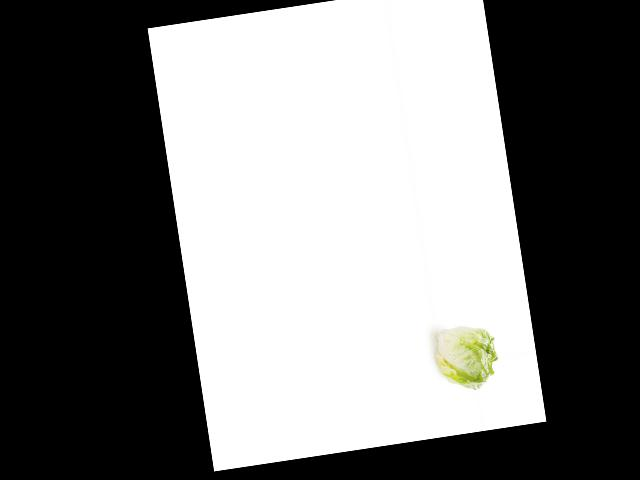lettuce: (432, 316, 504, 398)
